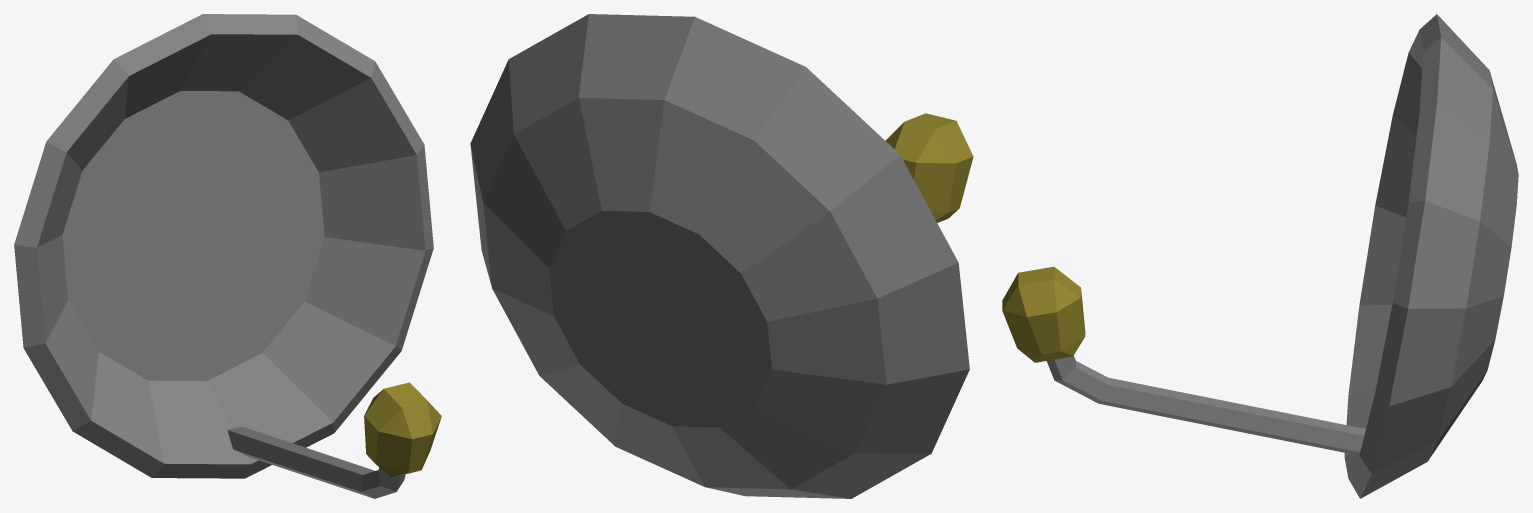
File: SM_satelite_dish.fbx
The picture shows the model from 3 angles, left to right: view 1: azimuth 30°, elevation 25°; view 2: azimuth 150°, elevation 25°; view 3: azimuth 270°, elevation 25°; orthographic projection. The views are drawn at different scales.
Parts seen in each view (by area): view 1: Sphere001; view 2: Sphere001; view 3: Sphere001.
Boxes of the visible parts, x1,y1,x2,y2 form: Sphere001: (14, 14, 441, 498); Sphere001: (470, 14, 973, 498); Sphere001: (1002, 14, 1518, 498).
Size of the model in its own units: 37.88 by 38.27 by 40.85.
